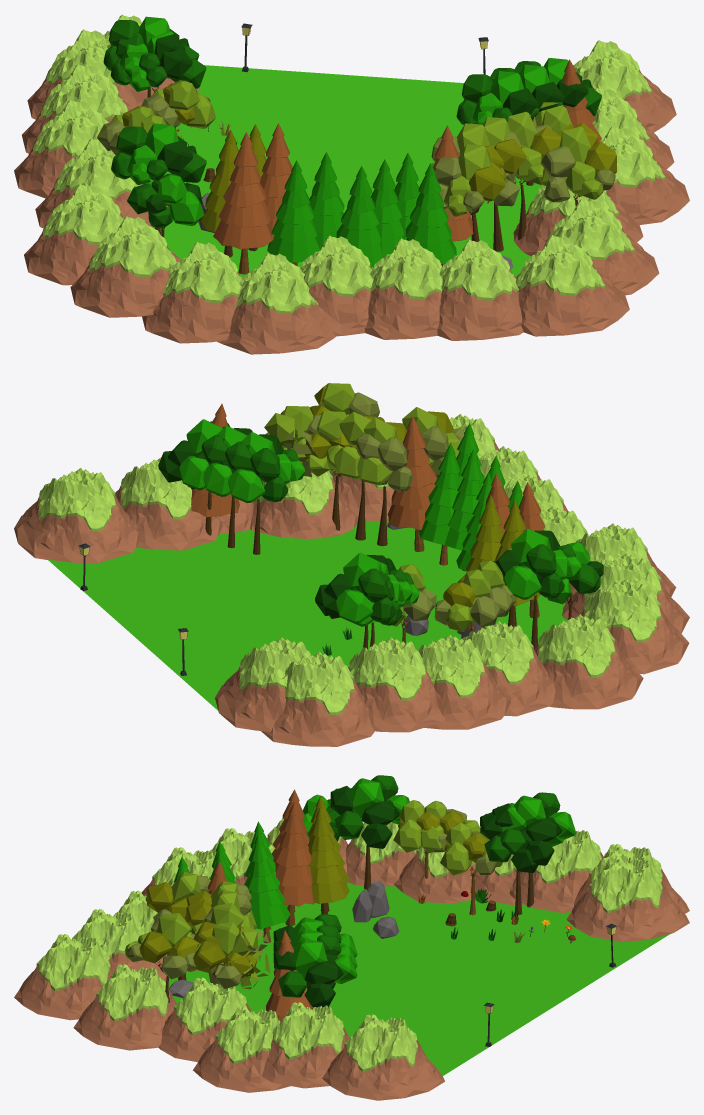
Rendered from escenario1.glb.
3 renders of one model, top to bottom at view 1: azimuth 30°, elevation 25°; view 2: azimuth 150°, elevation 25°; view 3: azimuth 270°, elevation 25°, orthographic. The views are drawn at different scales.
Visible parts, largest first — view 1: Plano.003, PP_Forest_Mountain_Moss_02_2_PP_Standard_Material_0.013, PP_Forest_Mountain_Moss_02_2, PP_Forest_Mountain_Moss_02_2_PP_Standard_Material_0.008, PP_Forest_Mountain_Moss_02_2_PP_Standard_Material_0.012, PP_Forest_Mountain_Moss_02_2_PP_Standard_Material_0.007, PP_Forest_Mountain_Moss_02_2_PP_Standard_Material_0.011, PP_Forest_Mountain_Moss_02_2_PP_Standard_Material_0.005, PP_Forest_Mountain_Moss_02_2_PP_Standard_Material_0.010, PP_Forest_Mountain_Moss_02_2_PP_Standard_Material_0.014, PP_Forest_Mountain_Moss_02_2_PP_Standard_Material_0.016, PP_Forest_Mountain_Moss_02_2_PP_Standard_Material_0.003 (+33 smaller); view 2: Plano.003, PP_Forest_Mountain_Moss_02_2_PP_Standard_Material_0.009, PP_Forest_Mountain_Moss_02_2_PP_Standard_Material_0.006, PP_Forest_Mountain_Moss_02_2_PP_Standard_Material_0.005, PP_Forest_Mountain_Moss_02_2_PP_Standard_Material_0.002, PP_Forest_Mountain_Moss_02_2_PP_Standard_Material_0.008, PP_Forest_Mountain_Moss_02_2_PP_Standard_Material_0.018, PP_Forest_Mountain_Moss_02_2_PP_Standard_Material_0.003, PP_Forest_Mountain_Moss_02_2_PP_Standard_Material_0.001, PP_Forest_Mountain_Moss_02_2_PP_Standard_Material_0.004, PP_Forest_Mountain_Moss_02_2_PP_Standard_Material_0.015, Tree 3.002 (+34 smaller); view 3: Plano.003, PP_Forest_Mountain_Moss_02_2_PP_Standard_Material_0.009, PP_Forest_Mountain_Moss_02_2_PP_Standard_Material_0.001, PP_Forest_Mountain_Moss_02_2_PP_Standard_Material_0.014, PP_Forest_Mountain_Moss_02_2_PP_Standard_Material_0.013, PP_Forest_Mountain_Moss_02_2_PP_Standard_Material_0.018, PP_Forest_Mountain_Moss_02_2_PP_Standard_Material_0.016, PP_Forest_Mountain_Moss_02_2_PP_Standard_Material_0.015, Tree 3, PP_Forest_Mountain_Moss_02_2_PP_Standard_Material_0.002, Tree 3.004, Tree 3.002 (+30 smaller).
Boxes of the visible parts, x1,y1,x2,y2 form: Plano.003: (150,65,542,277); PP_Forest_Mountain_Moss_02_2_PP_Standard_Material_0.013: (515,235,629,336); PP_Forest_Mountain_Moss_02_2: (217,253,336,354); PP_Forest_Mountain_Moss_02_2_PP_Standard_Material_0.008: (70,216,180,317); PP_Forest_Mountain_Moss_02_2_PP_Standard_Material_0.012: (437,239,523,340); PP_Forest_Mountain_Moss_02_2_PP_Standard_Material_0.007: (142,242,242,343); PP_Forest_Mountain_Moss_02_2_PP_Standard_Material_0.011: (364,238,442,339); PP_Forest_Mountain_Moss_02_2_PP_Standard_Material_0.005: (24,183,123,285); PP_Forest_Mountain_Moss_02_2_PP_Standard_Material_0.010: (300,235,373,336); PP_Forest_Mountain_Moss_02_2_PP_Standard_Material_0.014: (542,199,659,295); PP_Forest_Mountain_Moss_02_2_PP_Standard_Material_0.016: (602,126,689,224); PP_Forest_Mountain_Moss_02_2_PP_Standard_Material_0.003: (14,99,108,198); Plano.003: (47,520,567,710); PP_Forest_Mountain_Moss_02_2_PP_Standard_Material_0.009: (14,468,140,562); PP_Forest_Mountain_Moss_02_2_PP_Standard_Material_0.006: (261,651,374,746); PP_Forest_Mountain_Moss_02_2_PP_Standard_Material_0.005: (534,614,643,709); PP_Forest_Mountain_Moss_02_2_PP_Standard_Material_0.002: (348,637,444,732); PP_Forest_Mountain_Moss_02_2_PP_Standard_Material_0.008: (580,579,689,674); PP_Forest_Mountain_Moss_02_2_PP_Standard_Material_0.018: (115,457,222,550); PP_Forest_Mountain_Moss_02_2_PP_Standard_Material_0.003: (417,634,510,729); PP_Forest_Mountain_Moss_02_2_PP_Standard_Material_0.001: (215,637,310,731); PP_Forest_Mountain_Moss_02_2_PP_Standard_Material_0.004: (462,621,555,716); PP_Forest_Mountain_Moss_02_2_PP_Standard_Material_0.015: (250,470,357,538); Tree 3.002: (315,552,412,649); Plano.003: (165,882,669,1076); PP_Forest_Mountain_Moss_02_2_PP_Standard_Material_0.009: (322,1014,444,1100); PP_Forest_Mountain_Moss_02_2_PP_Standard_Material_0.001: (566,856,689,942); PP_Forest_Mountain_Moss_02_2_PP_Standard_Material_0.014: (73,964,176,1050); PP_Forest_Mountain_Moss_02_2_PP_Standard_Material_0.013: (14,934,115,1020); PP_Forest_Mountain_Moss_02_2_PP_Standard_Material_0.018: (261,1002,349,1088); PP_Forest_Mountain_Moss_02_2_PP_Standard_Material_0.016: (193,1006,290,1092); PP_Forest_Mountain_Moss_02_2_PP_Standard_Material_0.015: (158,977,251,1062); Tree 3: (330,775,409,889); PP_Forest_Mountain_Moss_02_2_PP_Standard_Material_0.002: (509,830,603,912); Tree 3.004: (273,935,357,1009); Tree 3.002: (492,792,576,907).
Size of the model in its own units: 105 by 25.37 by 107.
170 materials, 21 textured.
